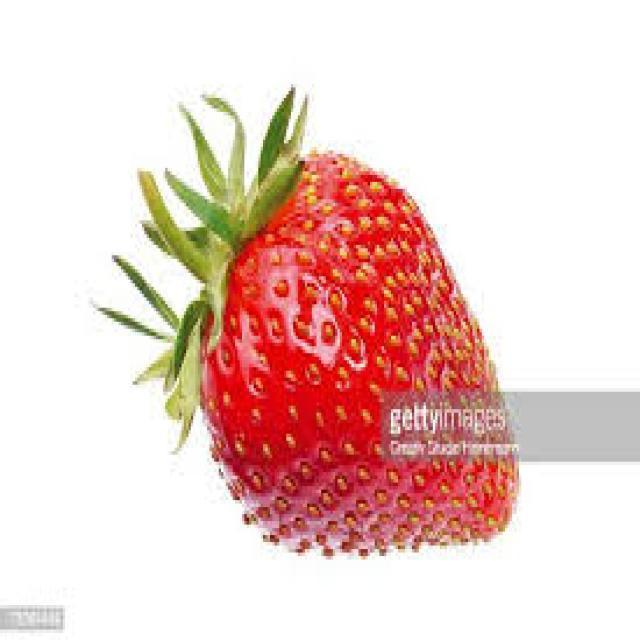Strawberry: (196, 145, 524, 553)
